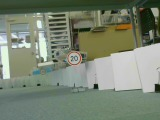speed_20: (66, 50, 82, 65)
